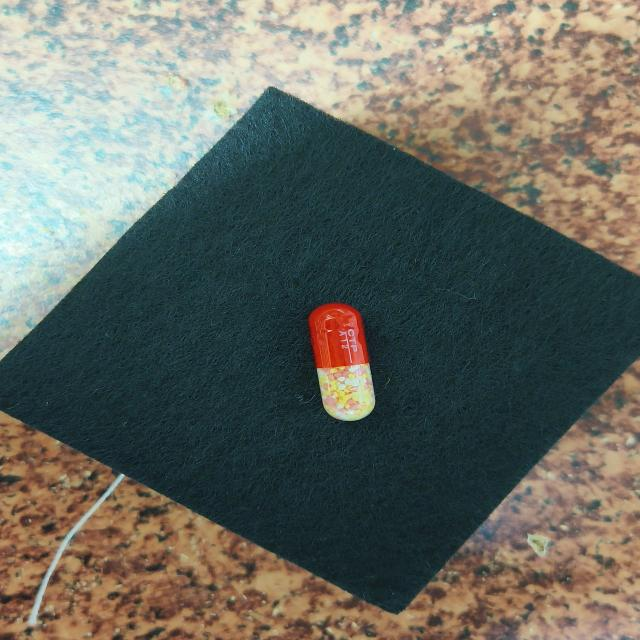Intact Capsule: (308, 303, 376, 421)
